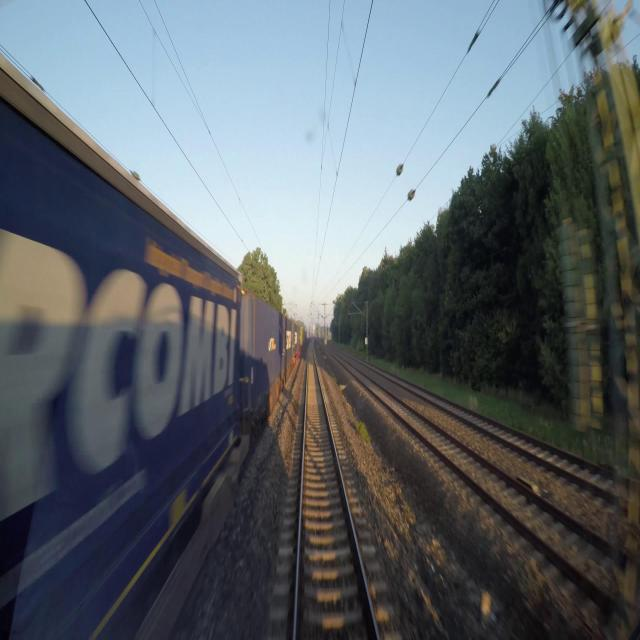rail-track: (347, 364, 640, 614), (417, 389, 640, 502), (298, 345, 375, 639)
